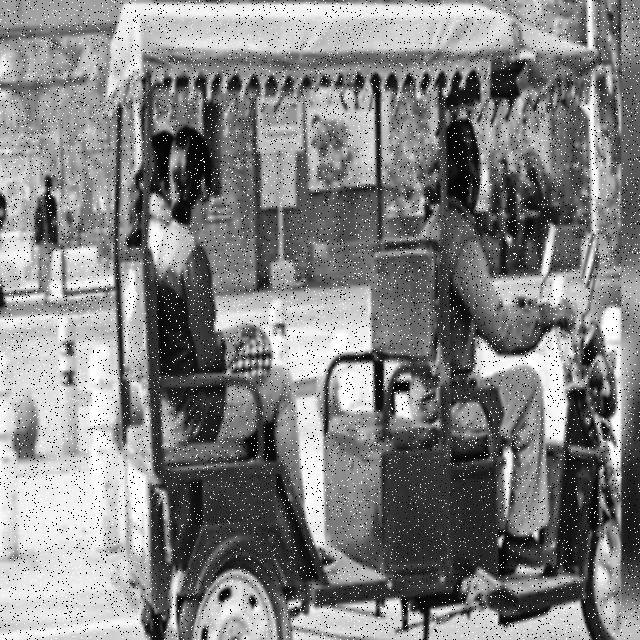Toto: (110, 1, 618, 639)
